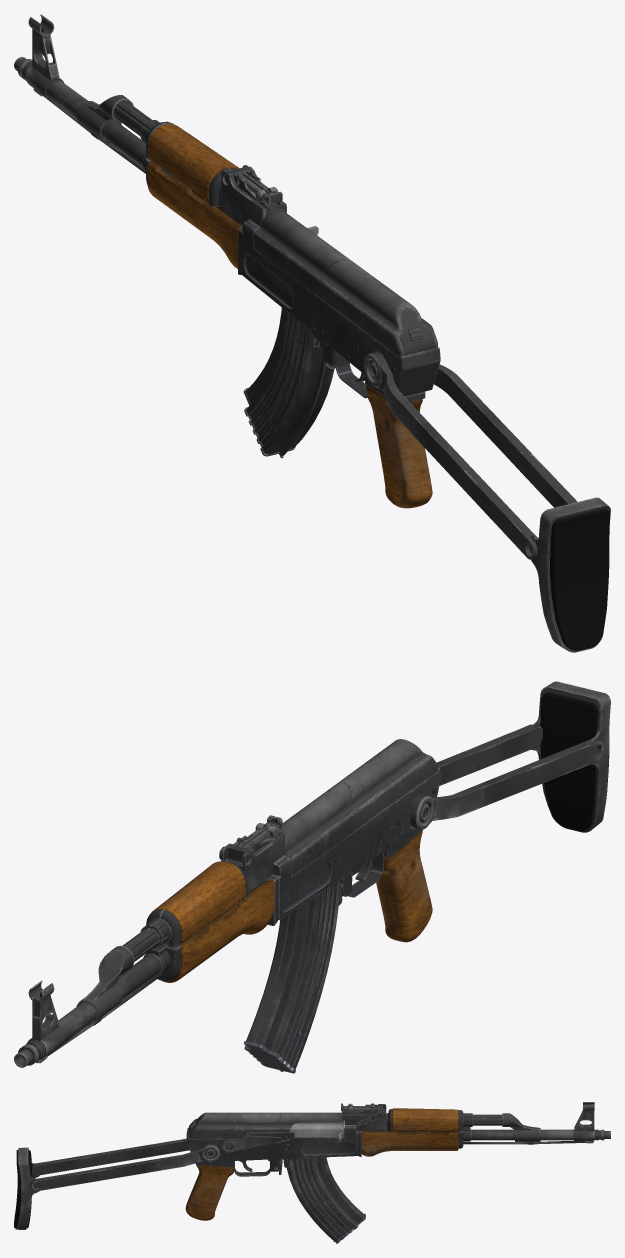
3 views of the same model, one above another, from view 1: azimuth 30°, elevation 25°; view 2: azimuth 150°, elevation 25°; view 3: azimuth 270°, elevation 25° (orthographic). The views are drawn at different scales.
Parts seen in each view (by area): view 1: Object_5, Object_7, Object_8, Object_6, Object_4, Object_9, Object_3, Object_11; view 2: Object_5, Object_7, Object_6, Object_8, Object_4, Object_11, Object_9, Object_3; view 3: Object_7, Object_5, Object_6, Object_4, Object_8, Object_11, Object_9, Object_3.
Boxes of the visible parts, bbox=[...] form: Object_5: bbox=[241, 166, 440, 508]; Object_7: bbox=[147, 123, 577, 559]; Object_8: bbox=[365, 327, 610, 652]; Object_6: bbox=[245, 307, 334, 456]; Object_4: bbox=[14, 57, 322, 349]; Object_9: bbox=[220, 165, 286, 226]; Object_3: bbox=[26, 14, 63, 99]; Object_11: bbox=[140, 120, 365, 458]; Object_5: bbox=[219, 739, 440, 942]; Object_7: bbox=[150, 724, 603, 982]; Object_6: bbox=[246, 880, 340, 1069]; Object_8: bbox=[383, 681, 610, 856]; Object_4: bbox=[14, 815, 282, 1067]; Object_11: bbox=[140, 859, 373, 1073]; Object_9: bbox=[221, 830, 286, 893]; Object_3: bbox=[27, 980, 65, 1063]; Object_7: bbox=[31, 1108, 458, 1190]; Object_5: bbox=[185, 1110, 385, 1220]; Object_6: bbox=[286, 1157, 364, 1242]; Object_4: bbox=[282, 1103, 610, 1168]; Object_8: bbox=[14, 1121, 294, 1229]; Object_11: bbox=[238, 1109, 472, 1243]; Object_9: bbox=[342, 1103, 386, 1130]; Object_3: bbox=[574, 1102, 594, 1143].
Size of the model in its own units: 0.3742 by 1.22 by 4.77.
2 materials, 1 textured.
